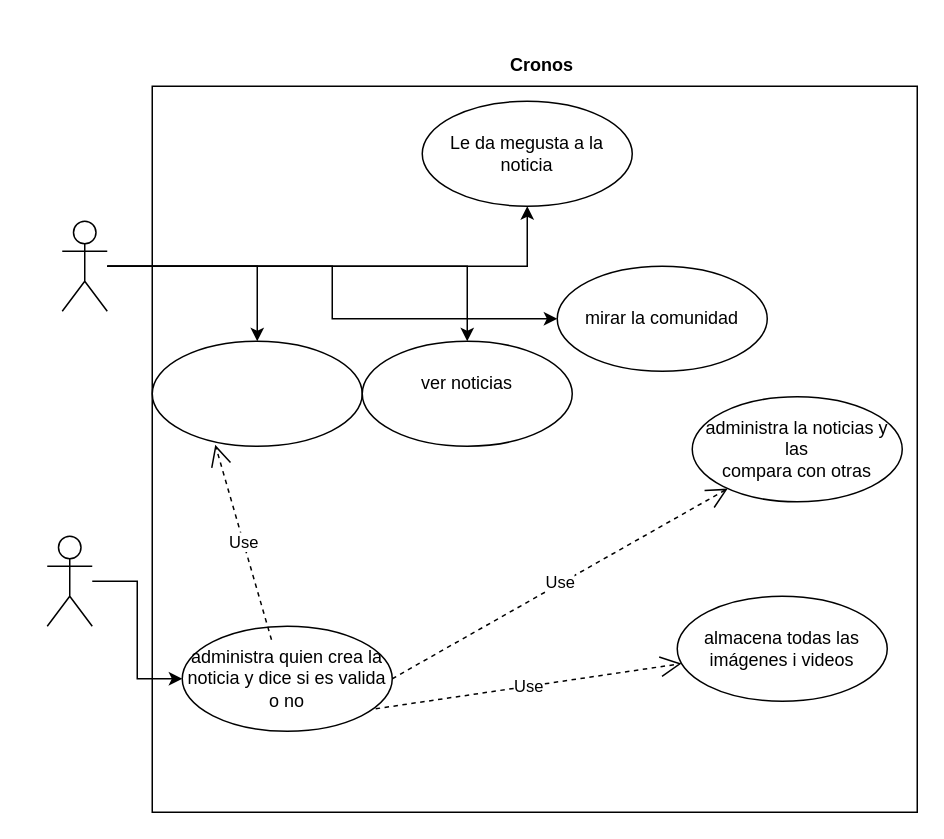
The diagram is 944 pixels wide and 839 high, and some of its shapes have lost their labels. Each missing label, with the centre of its shape:
"crea noticias" belongs at pixel 256 393.
"moderador" belongs at pixel 69 580.
"usuario" belongs at pixel 84 265.
